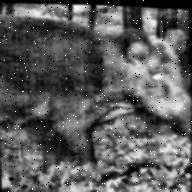boar: (0, 7, 192, 166)
